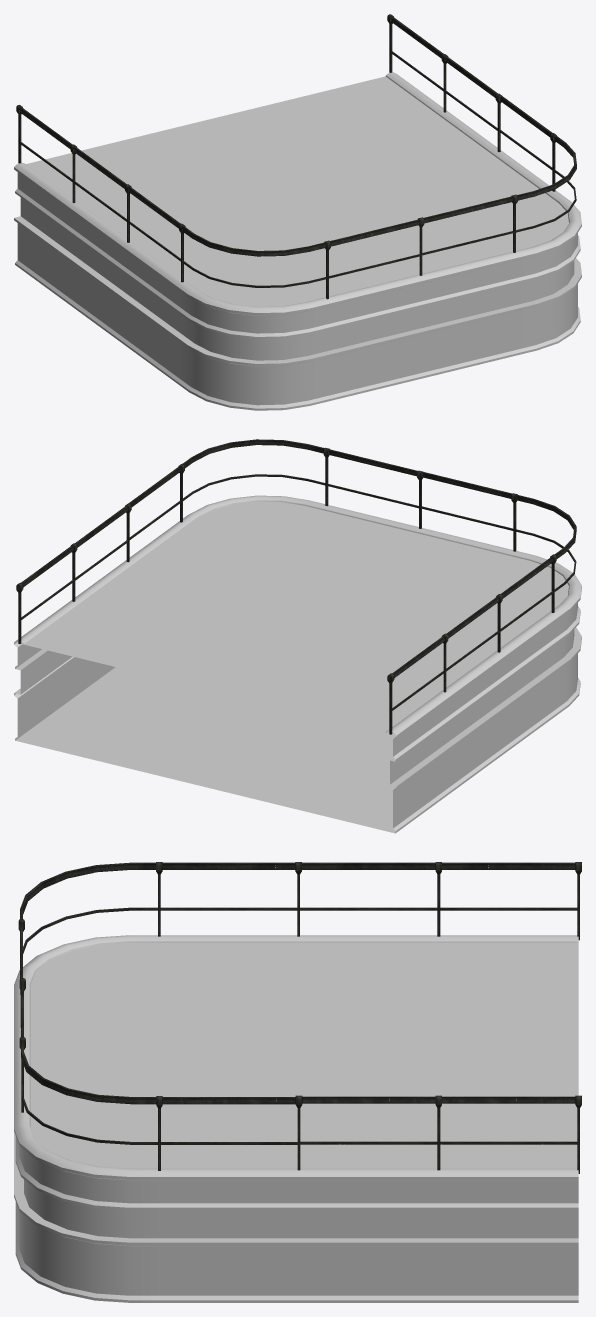
The model's file is engineroom_balcony.dae.
The picture shows the model from 3 angles, top to bottom: view 1: azimuth 30°, elevation 25°; view 2: azimuth 150°, elevation 25°; view 3: azimuth 270°, elevation 25°; orthographic projection. The views are drawn at different scales.
Visible parts, largest first — view 1: balcony_flooring, balcony_metal, balcony_bricks, bacony_railing; view 2: balcony_flooring, balcony_metal, bacony_railing, balcony_bricks; view 3: balcony_flooring, balcony_metal, bacony_railing, balcony_bricks.
Part boxes in pixels (x1,y1,x2,y2): balcony_flooring: [26, 76, 568, 306]; balcony_metal: [14, 72, 581, 410]; balcony_bricks: [20, 197, 574, 360]; bacony_railing: [16, 14, 576, 299]; balcony_flooring: [21, 501, 568, 831]; balcony_metal: [14, 495, 581, 833]; bacony_railing: [16, 439, 576, 734]; balcony_bricks: [20, 629, 574, 784]; balcony_flooring: [30, 943, 578, 1168]; balcony_metal: [14, 935, 578, 1302]; bacony_railing: [18, 862, 581, 1173]; balcony_bricks: [24, 1179, 578, 1238].
Bounding box in the file's own units: 815 × 322 × 812.
